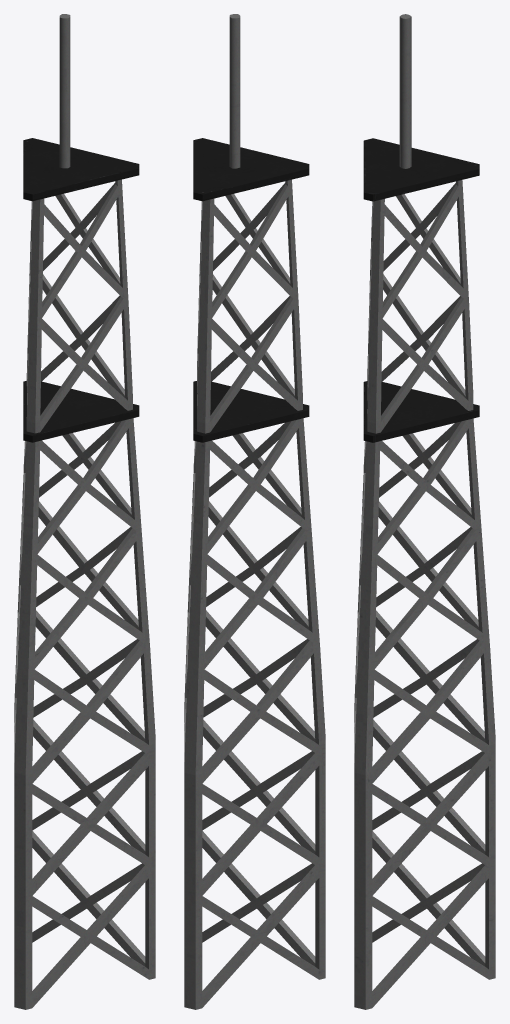
The model's file is signal tower.glb.
3 renders of one model, left to right at view 1: azimuth 30°, elevation 25°; view 2: azimuth 150°, elevation 25°; view 3: azimuth 270°, elevation 25°, orthographic.
Parts seen in each view (by area): view 1: Maszt, Maszt.002, Maszt.003, Maszt.001, Maszt.004; view 2: Maszt, Maszt.002, Maszt.003, Maszt.001, Maszt.004; view 3: Maszt, Maszt.002, Maszt.003, Maszt.001, Maszt.004.
Boxes of the visible parts, bbox=[...] form: Maszt: bbox=[14, 418, 155, 1009]; Maszt.002: bbox=[26, 179, 132, 433]; Maszt.003: bbox=[23, 138, 139, 201]; Maszt.001: bbox=[23, 381, 139, 442]; Maszt.004: bbox=[59, 14, 70, 168]; Maszt: bbox=[184, 418, 325, 1009]; Maszt.002: bbox=[197, 179, 302, 433]; Maszt.003: bbox=[193, 138, 309, 201]; Maszt.001: bbox=[193, 381, 309, 442]; Maszt.004: bbox=[229, 14, 240, 168]; Maszt: bbox=[354, 418, 495, 1009]; Maszt.002: bbox=[367, 180, 473, 433]; Maszt.003: bbox=[363, 138, 479, 201]; Maszt.001: bbox=[363, 381, 479, 442]; Maszt.004: bbox=[399, 14, 411, 168].
Size of the model in its own units: 218 by 1411 by 189.
1 material, 1 textured.
